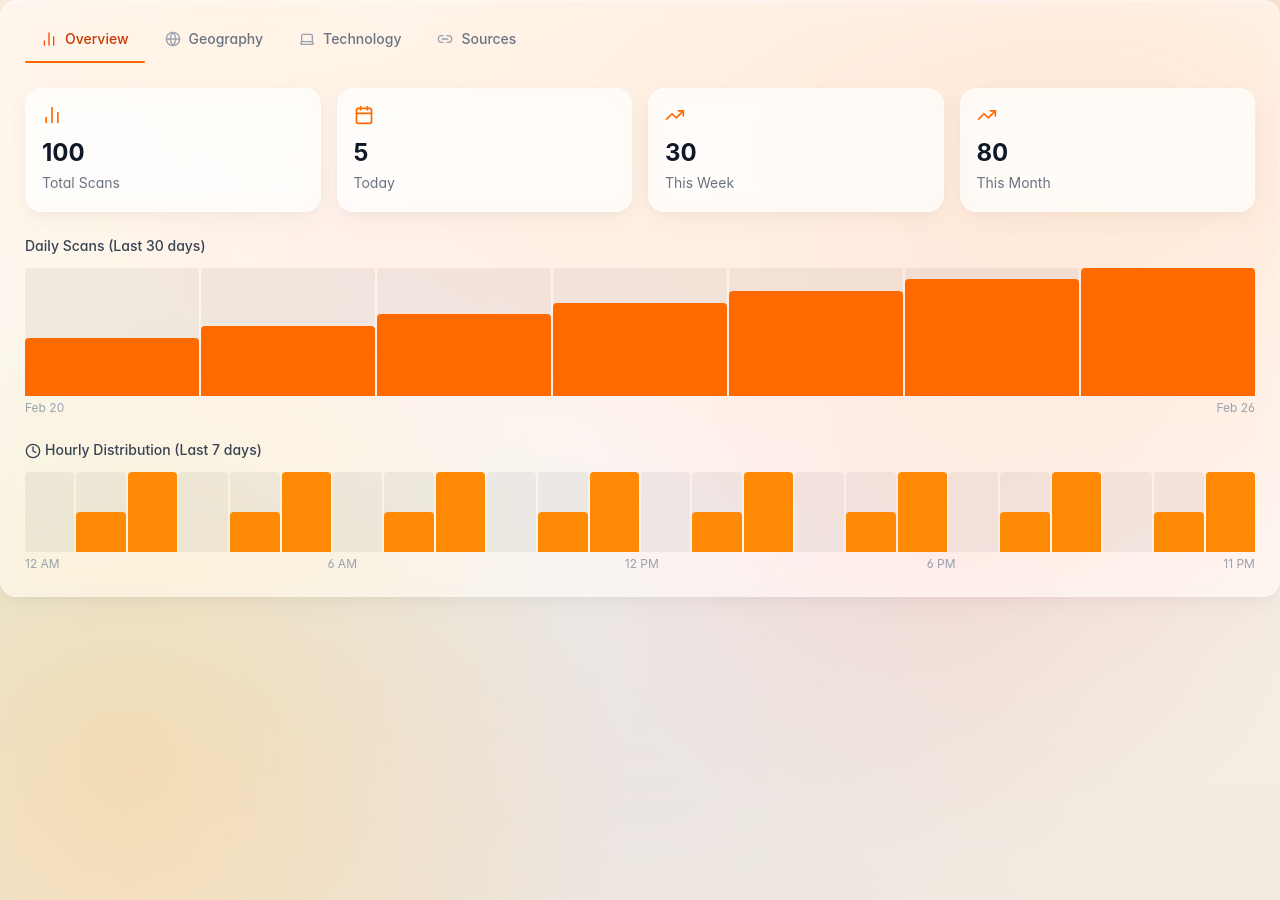
Test: AnalyticsCharts › tab rendering › switches to Sources tab on click
The image size is (1280, 900).
Click the tab "Sources": [477, 39] box 422,17 -> 532,61
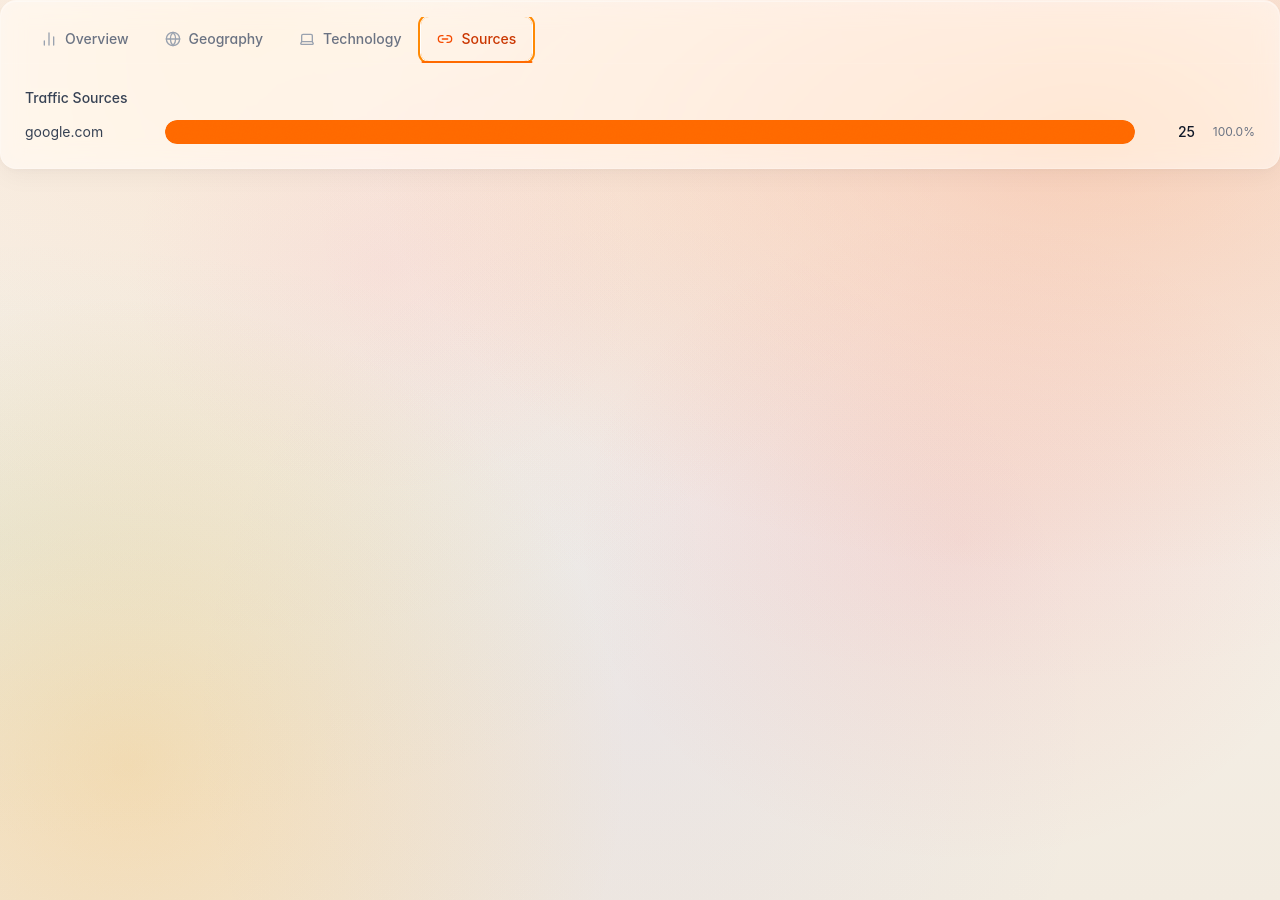
Expected: the heading "Traffic Sources" is shown, 25,89 -> 128,106
